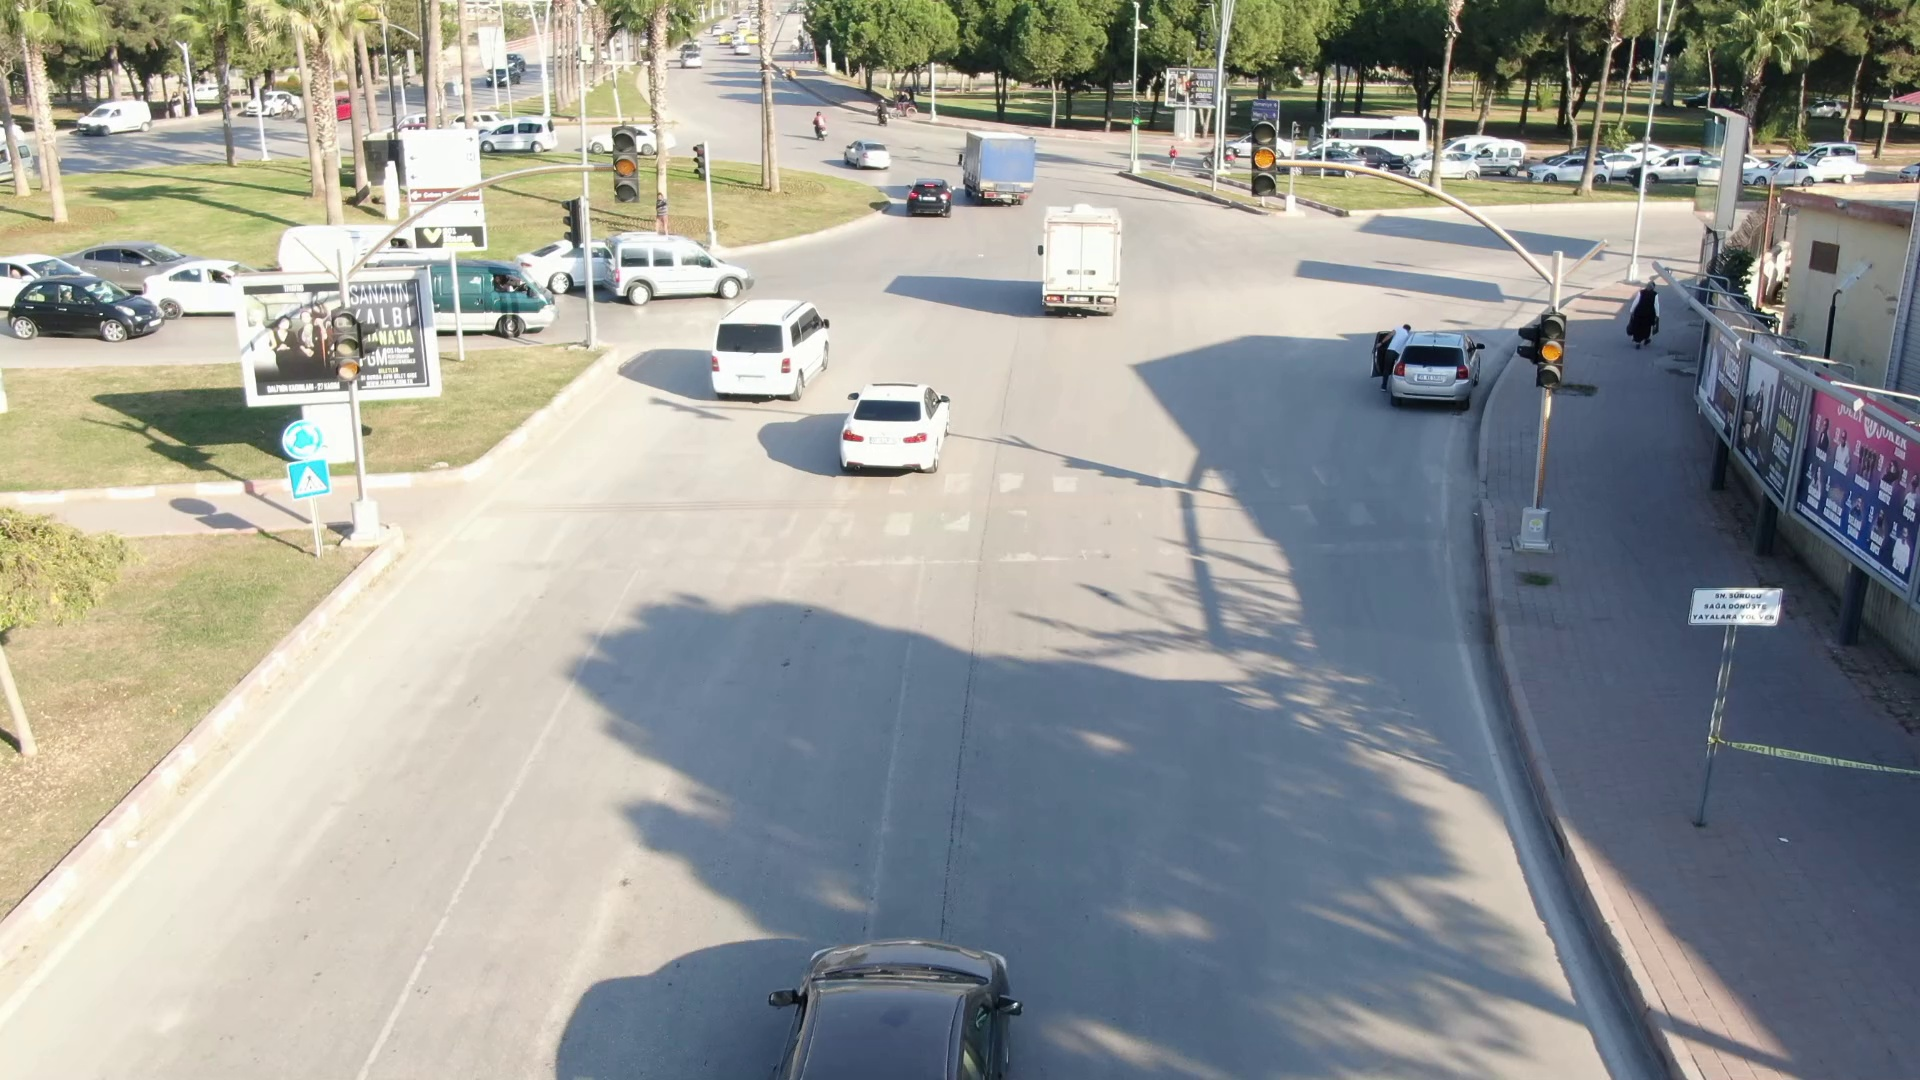car: (828, 362, 984, 489), (711, 285, 844, 416), (1026, 198, 1137, 320), (603, 225, 756, 306), (947, 122, 1048, 212), (1390, 335, 1487, 412), (901, 169, 964, 225), (844, 137, 897, 173)
person: (1620, 276, 1676, 354)
